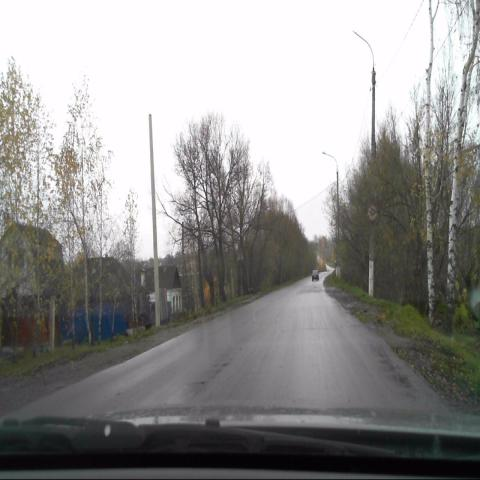3_24: (366, 204, 378, 223)
